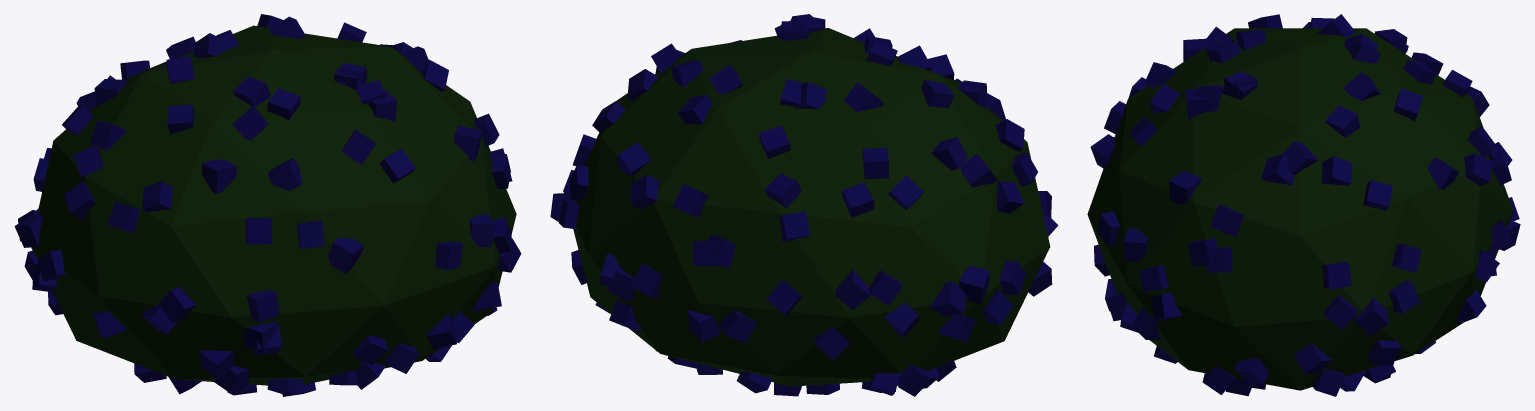
The model's file is s_bush_01.FBX.
3 renders of one model, left to right at view 1: azimuth 30°, elevation 25°; view 2: azimuth 150°, elevation 25°; view 3: azimuth 270°, elevation 25°, orthographic. The views are drawn at different scales.
Parts seen in each view (by area): view 1: s_bush_01, s_berries_01; view 2: s_bush_01, s_berries_01; view 3: s_bush_01, s_berries_01.
Part boxes in pixels (x1,y1,x2,y2): s_bush_01: [31, 25, 516, 385]; s_berries_01: [14, 14, 521, 396]; s_bush_01: [571, 28, 1050, 386]; s_berries_01: [550, 14, 1058, 396]; s_bush_01: [1087, 28, 1513, 390]; s_berries_01: [1090, 14, 1520, 396].
Bounding box in the file's own units: 1.09 × 0.7297 × 0.9705.
